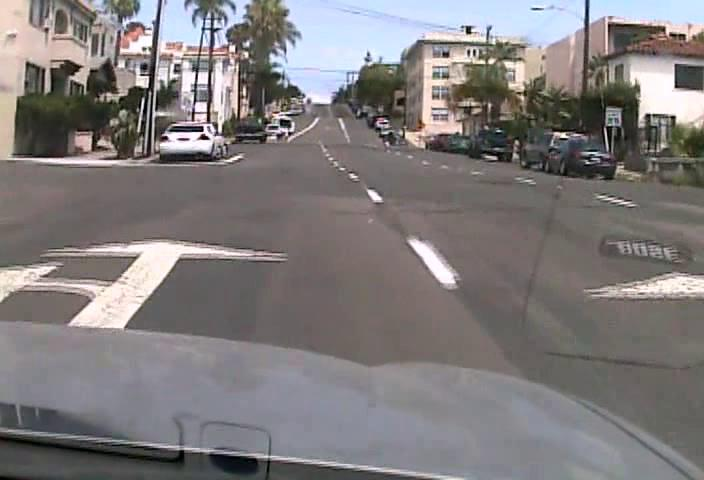speedLimit25: (604, 105, 622, 127)
